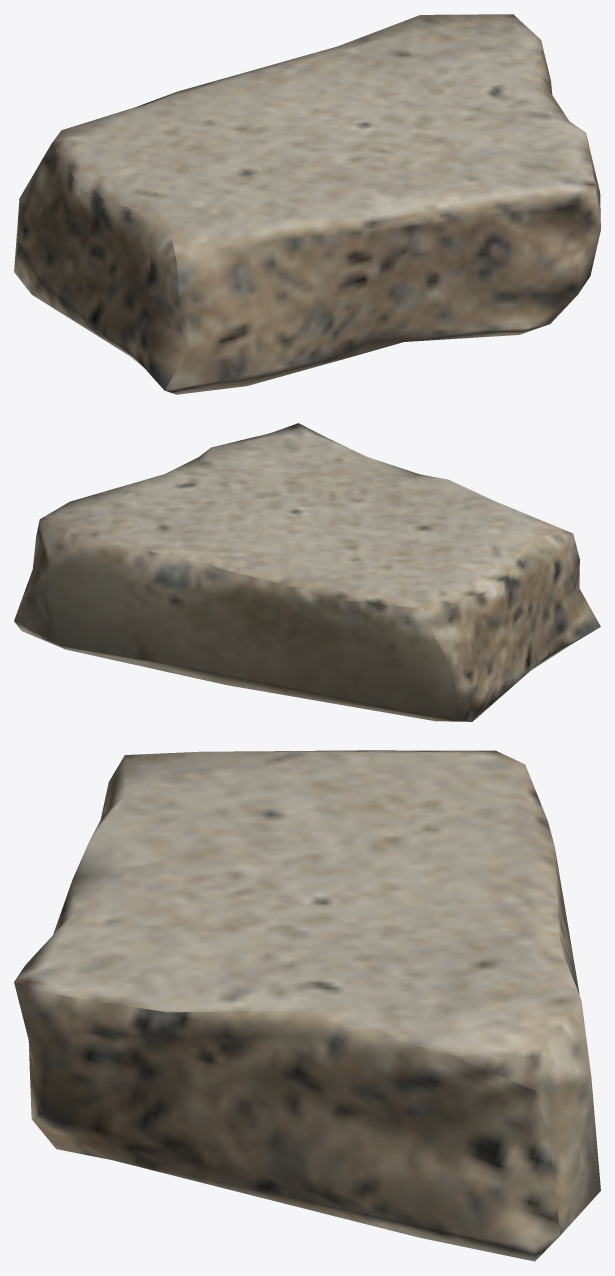
The model's file is Concrete_Rubble5.fbx.
3 views of the same model, one above another, from view 1: azimuth 30°, elevation 25°; view 2: azimuth 150°, elevation 25°; view 3: azimuth 270°, elevation 25° (orthographic). The views are drawn at different scales.
Parts seen in each view (by area): view 1: Concrete_Rubble5; view 2: Concrete_Rubble5; view 3: Concrete_Rubble5.
Part boxes in pixels (left/top/right/bottom): Concrete_Rubble5: left=14, top=14, right=600, bottom=394; Concrete_Rubble5: left=14, top=423, right=600, bottom=721; Concrete_Rubble5: left=14, top=750, right=600, bottom=1261.
Bounding box in the file's own units: 9.31 × 2.51 × 6.56.
